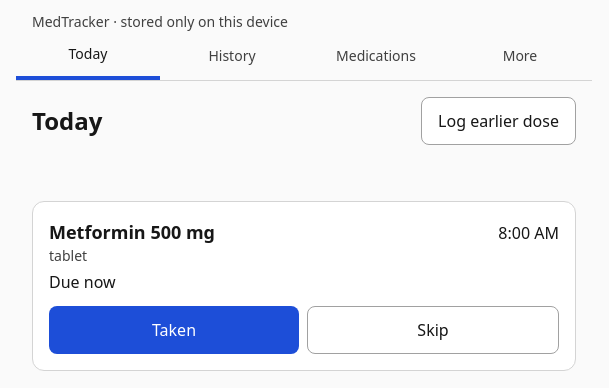
it: Today flow › records Skip as a distinct outcome from Taken
The width and height of the screenshot is (609, 388).
Click the button "Skip" at {"x": 433, "y": 330}, box [307,306,559,354]
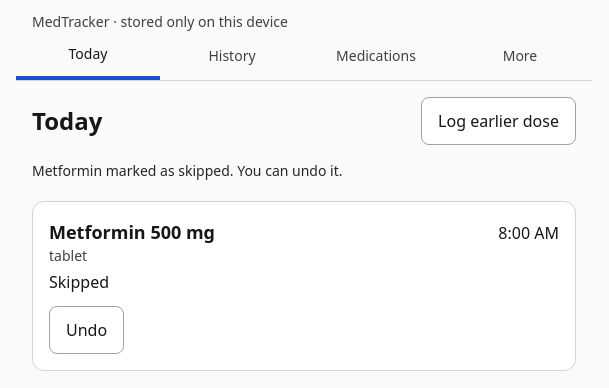
Now the text "Skipped" is shown, box [49,271,109,293]
Now the button "Taken" is gone
